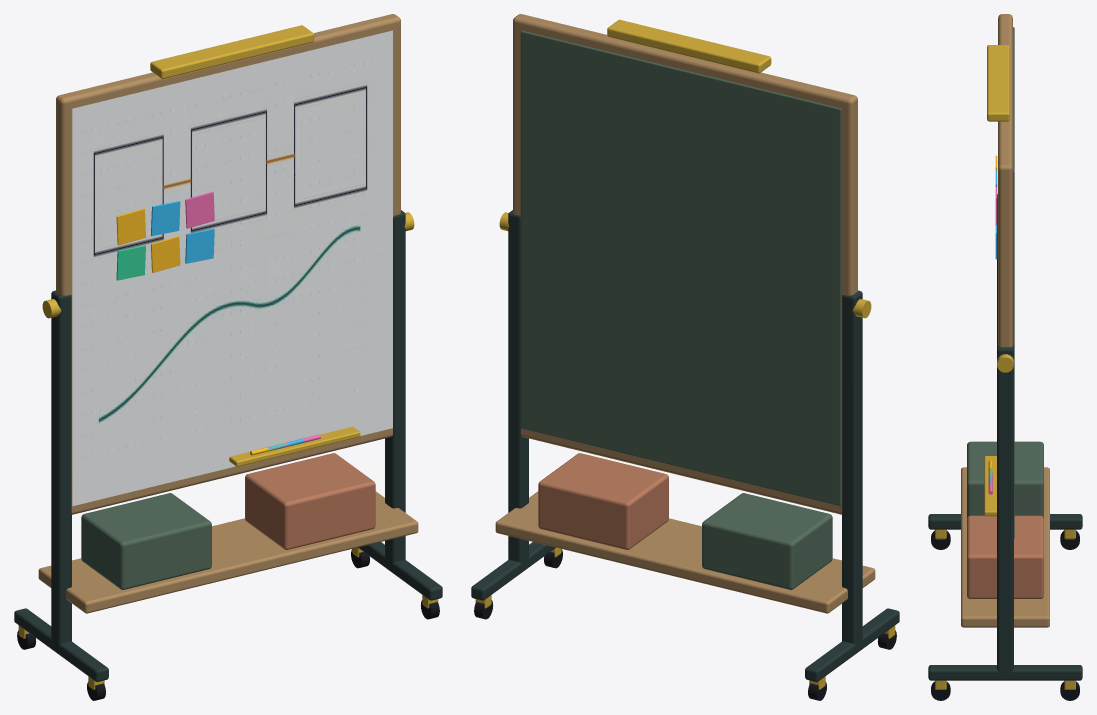
Rendered from campus-board-compact-nordic.glb.
3 views of the same model, side by side, from view 1: azimuth 30°, elevation 25°; view 2: azimuth 150°, elevation 25°; view 3: azimuth 270°, elevation 25° (orthographic). The views are drawn at different scales.
Size of the model in its own units: 1.11 by 1.72 by 0.44.
14 materials, 1 textured.
